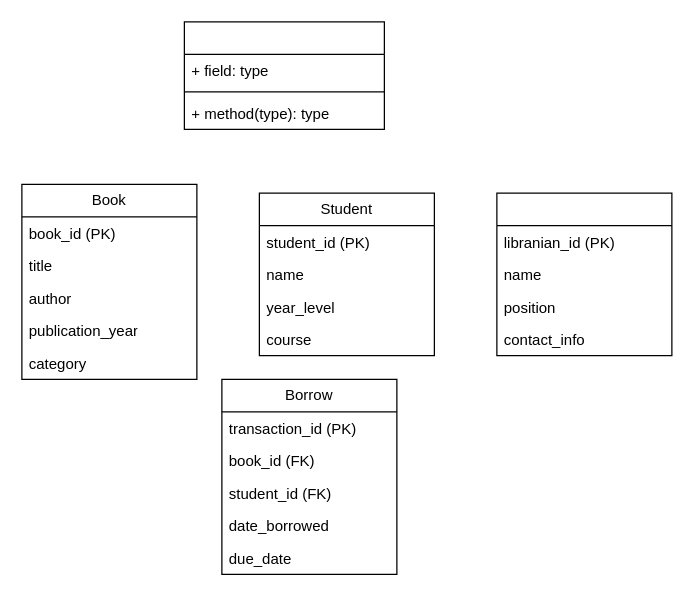
Some shapes in this 694 by 600 pixel diagram are drawn without their labels. Here are the shapes that lost their labels. From the top down, the box of each, then its label:
(183, 21, 384, 129): Classname
(496, 192, 672, 356): Librarian
